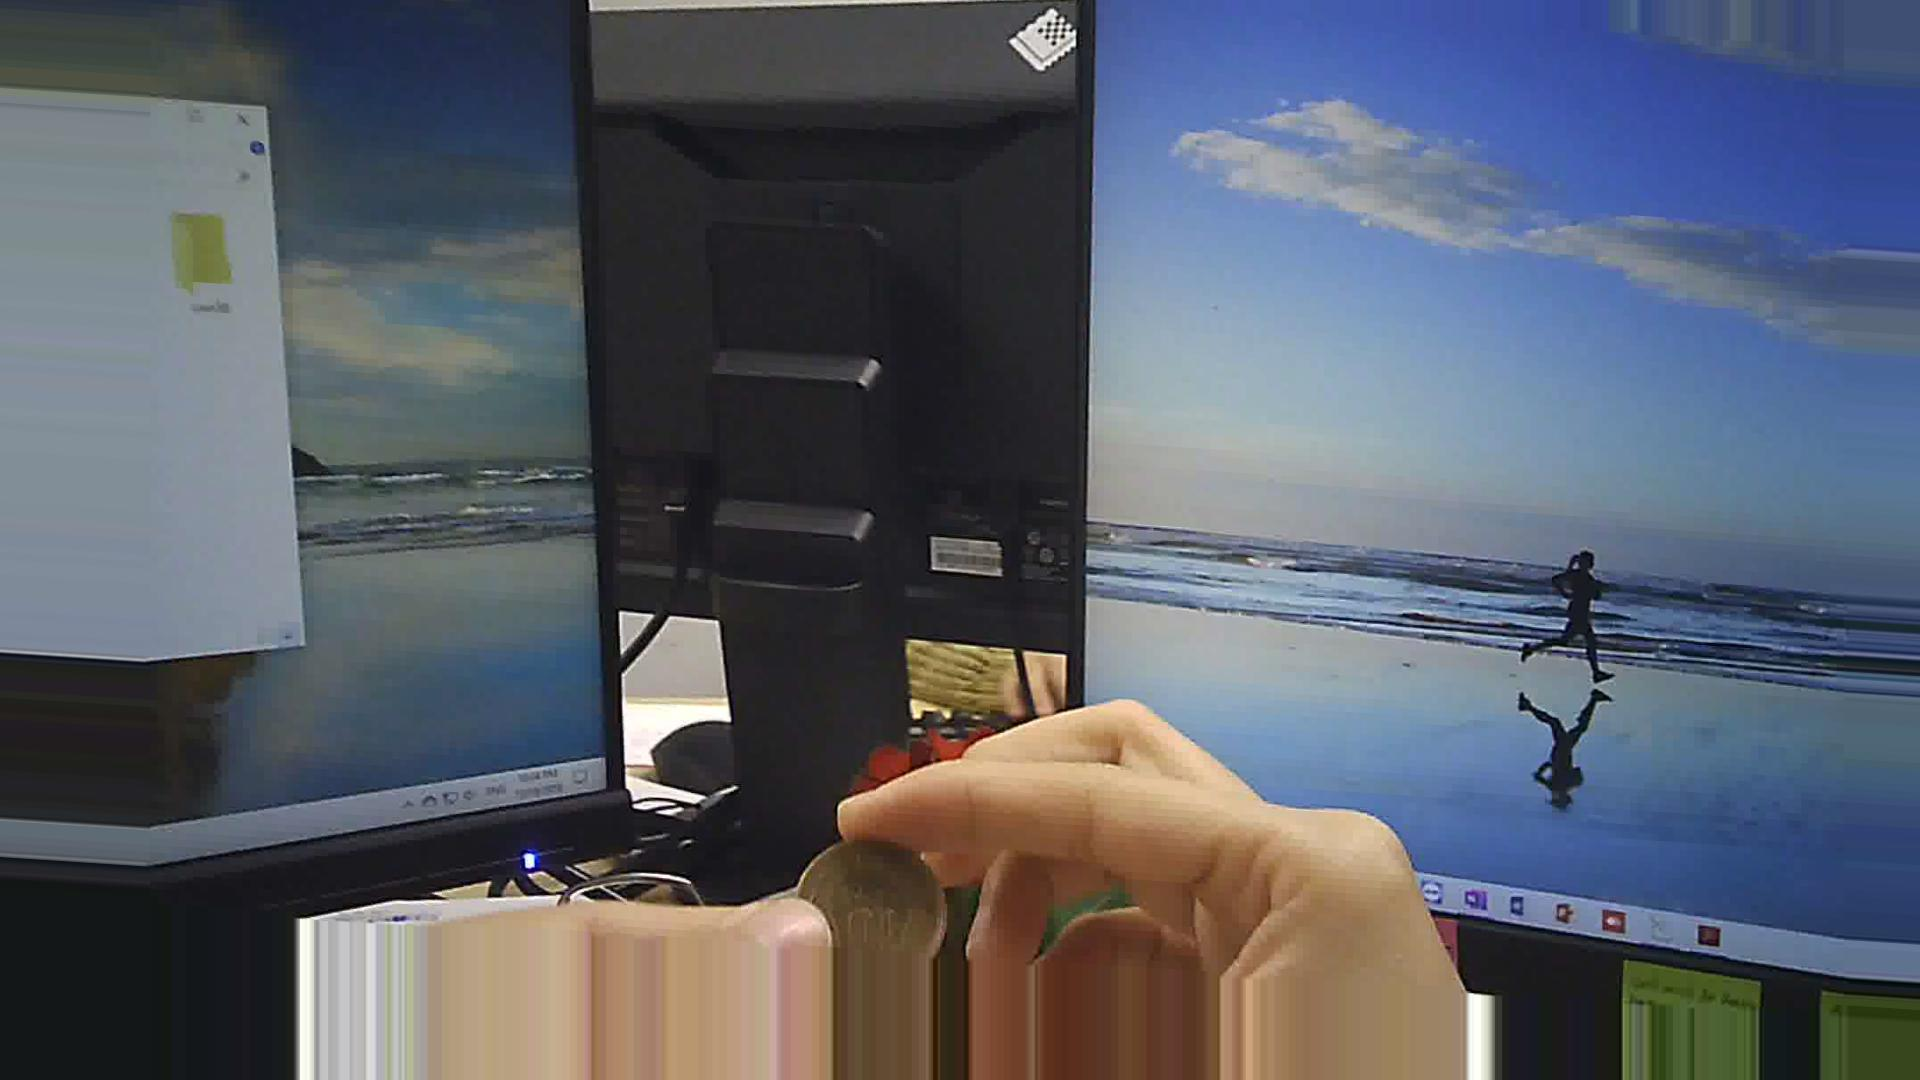10 Yen: (785, 836, 955, 963)
